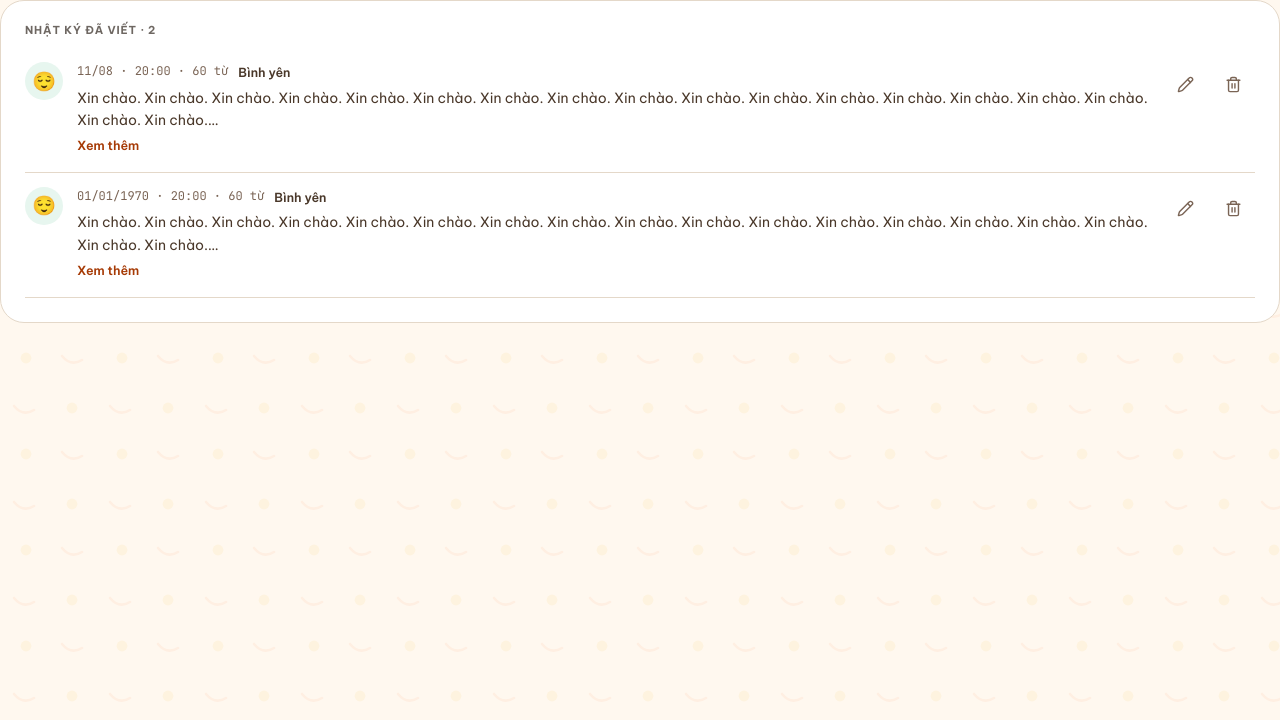
JournalEntriesCard › expanding one entry does not affect another entry's truncation state
Click the button "Xem thêm" below "11/08" at (108, 146), box [77,135,139,156]
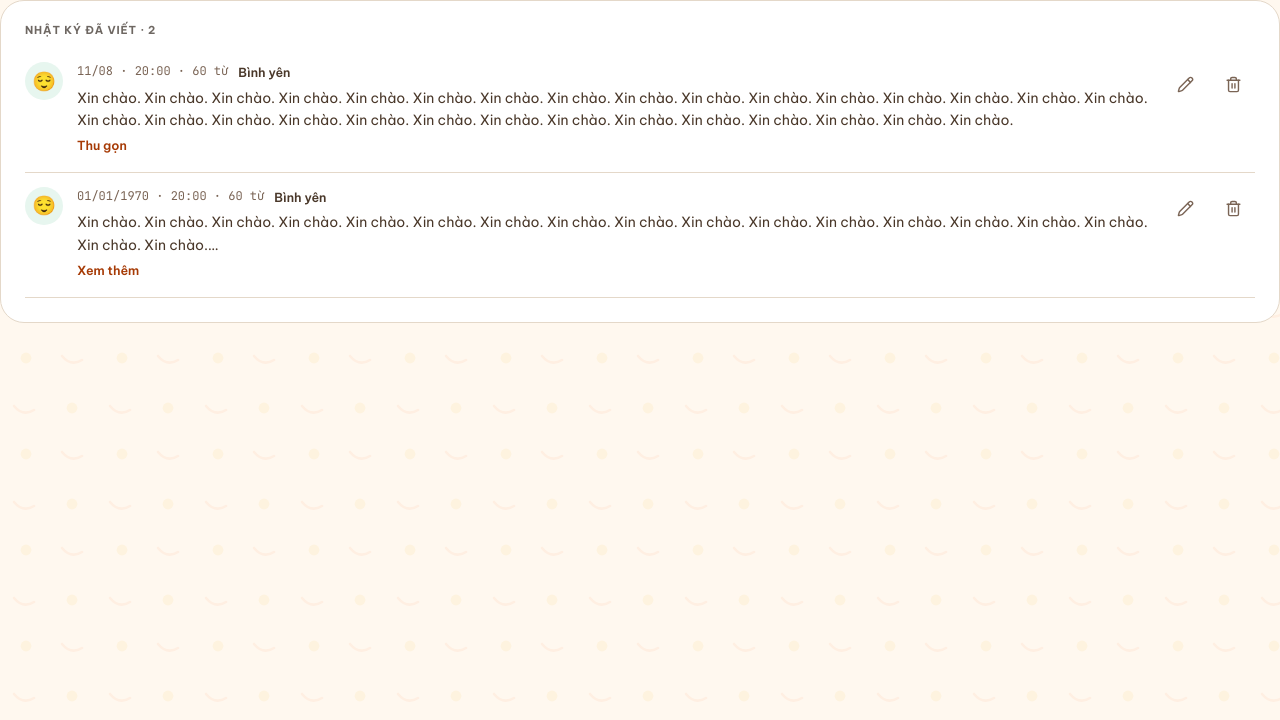
Check: the number of buttons "Xem thêm" is 1, box [77,260,139,281]
Check: the button "Thu gọn" is shown, box [77,135,127,156]
